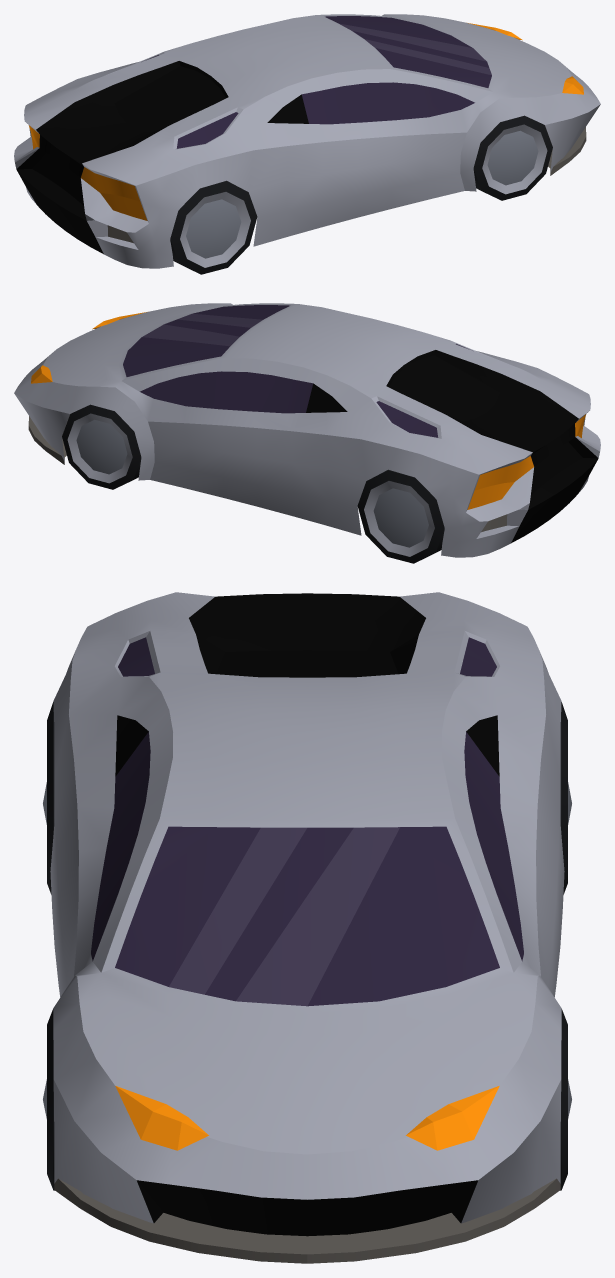
File: Lambo.fbx
The picture shows the model from 3 angles, top to bottom: view 1: azimuth 30°, elevation 25°; view 2: azimuth 150°, elevation 25°; view 3: azimuth 270°, elevation 25°; orthographic projection. The views are drawn at different scales.
Parts seen in each view (by area): view 1: Lambo; view 2: Lambo; view 3: Lambo.
Part boxes in pixels (x1,y1,x2,y2): Lambo: [14, 14, 600, 274]; Lambo: [14, 303, 600, 563]; Lambo: [43, 592, 571, 1263].
Bounding box in the file's own units: 21.64 × 5.71 × 9.4.
